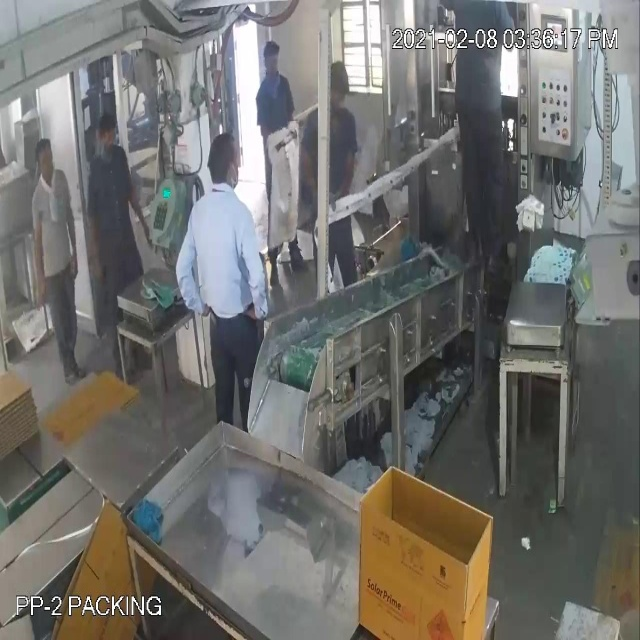Sin_guantes: (235, 220, 276, 341), (171, 222, 207, 338), (118, 160, 155, 253), (27, 204, 56, 313), (85, 191, 106, 294), (298, 140, 323, 214)
